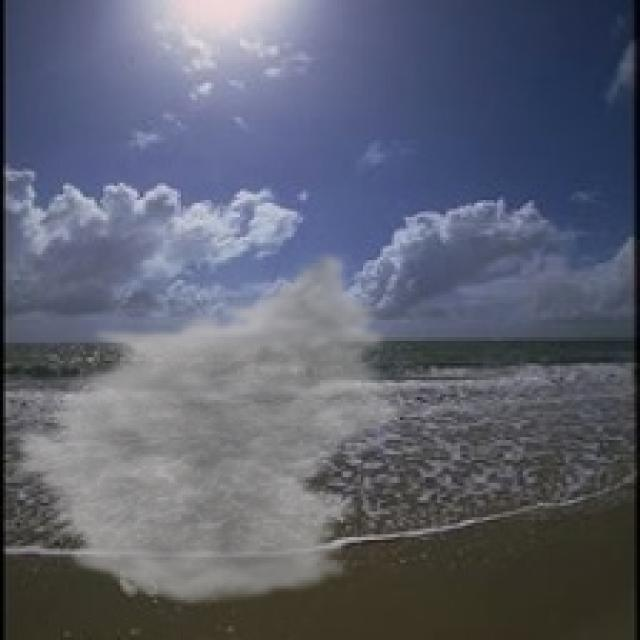smoke: (0, 248, 415, 609)
